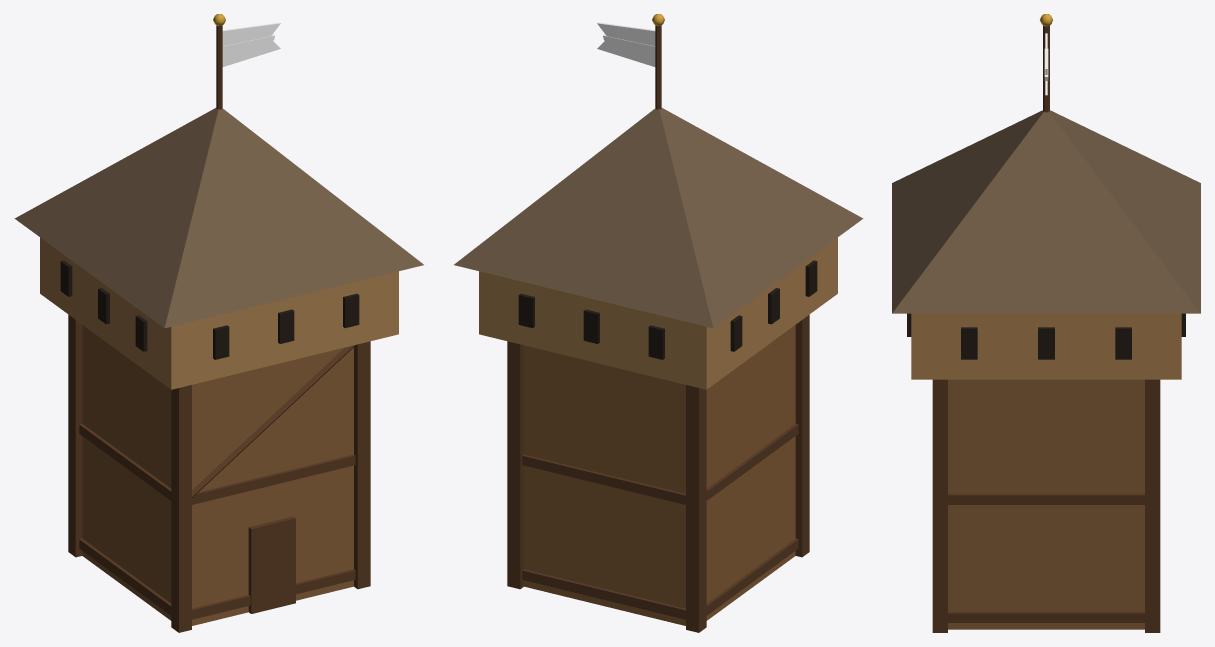
The model's file is castle_wood_tower.glb.
3 views of the same model, side by side, from view 1: azimuth 30°, elevation 25°; view 2: azimuth 150°, elevation 25°; view 3: azimuth 270°, elevation 25° (orthographic). The views are drawn at different scales.
Visible parts, largest first — view 1: castle_wood_tower; view 2: castle_wood_tower; view 3: castle_wood_tower.
Boxes of the visible parts, x1,y1,x2,y2 form: castle_wood_tower: (14, 14, 423, 632); castle_wood_tower: (454, 14, 863, 632); castle_wood_tower: (892, 14, 1200, 632).
Bounding box in the file's own units: 6.4 × 13.06 × 6.4.
